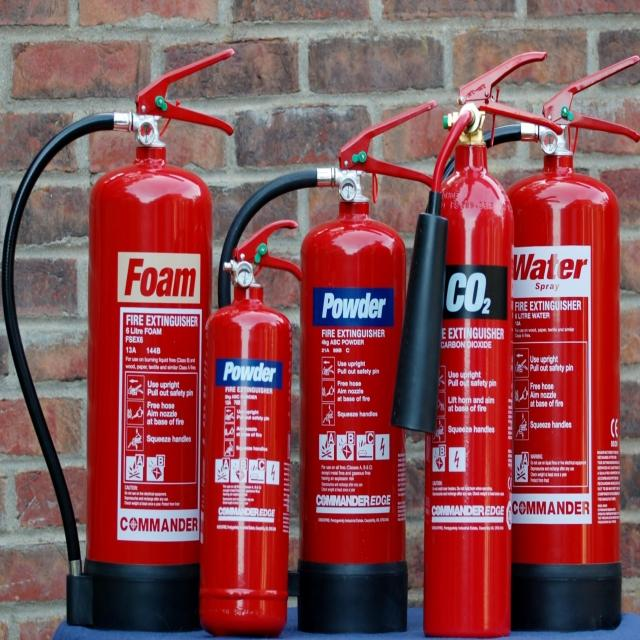fire_extinguisher: (0, 42, 239, 640), (410, 50, 640, 640), (216, 98, 447, 640), (387, 44, 565, 640), (193, 215, 304, 640)
